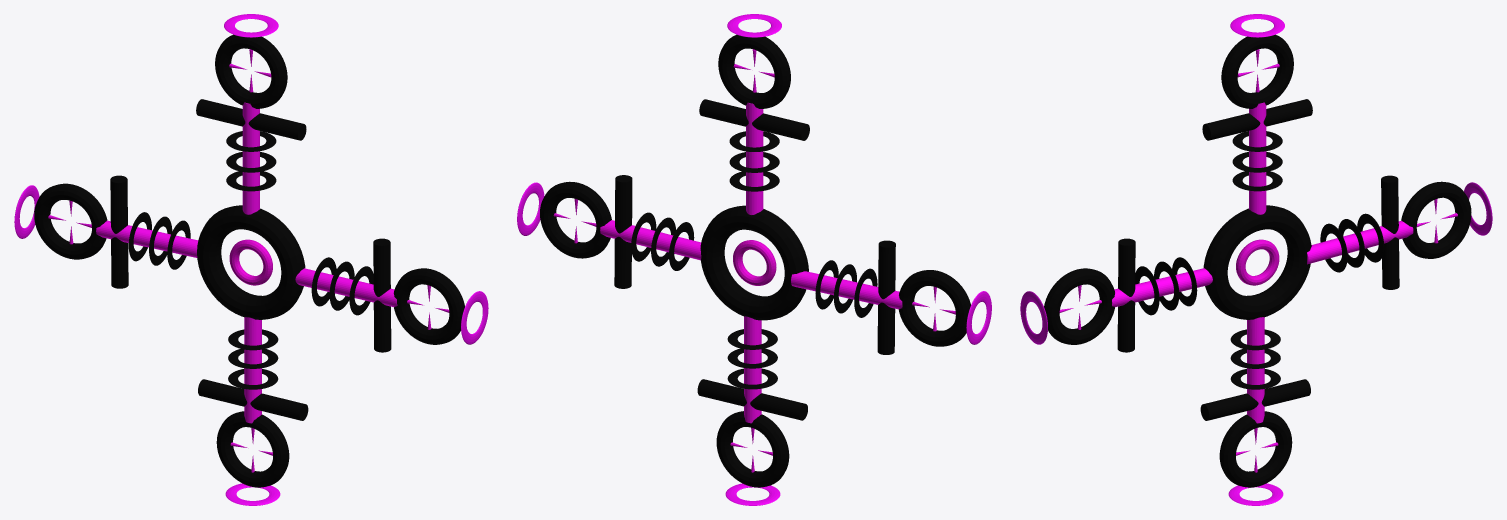
File: Enemy__SingleBullet.fbx
3 renders of one model, left to right at view 1: azimuth 30°, elevation 25°; view 2: azimuth 210°, elevation 25°; view 3: azimuth 270°, elevation 25°, orthographic.
Parts seen in each view (by area): view 1: トーラス.005; view 2: トーラス.005; view 3: トーラス.005.
Part boxes in pixels (<box>): トーラス.005: <box>14,14,488,505</box>; トーラス.005: <box>517,14,991,505</box>; トーラス.005: <box>1020,14,1492,505</box>.
Size of the model in its own units: 2148 by 3622 by 3298.
